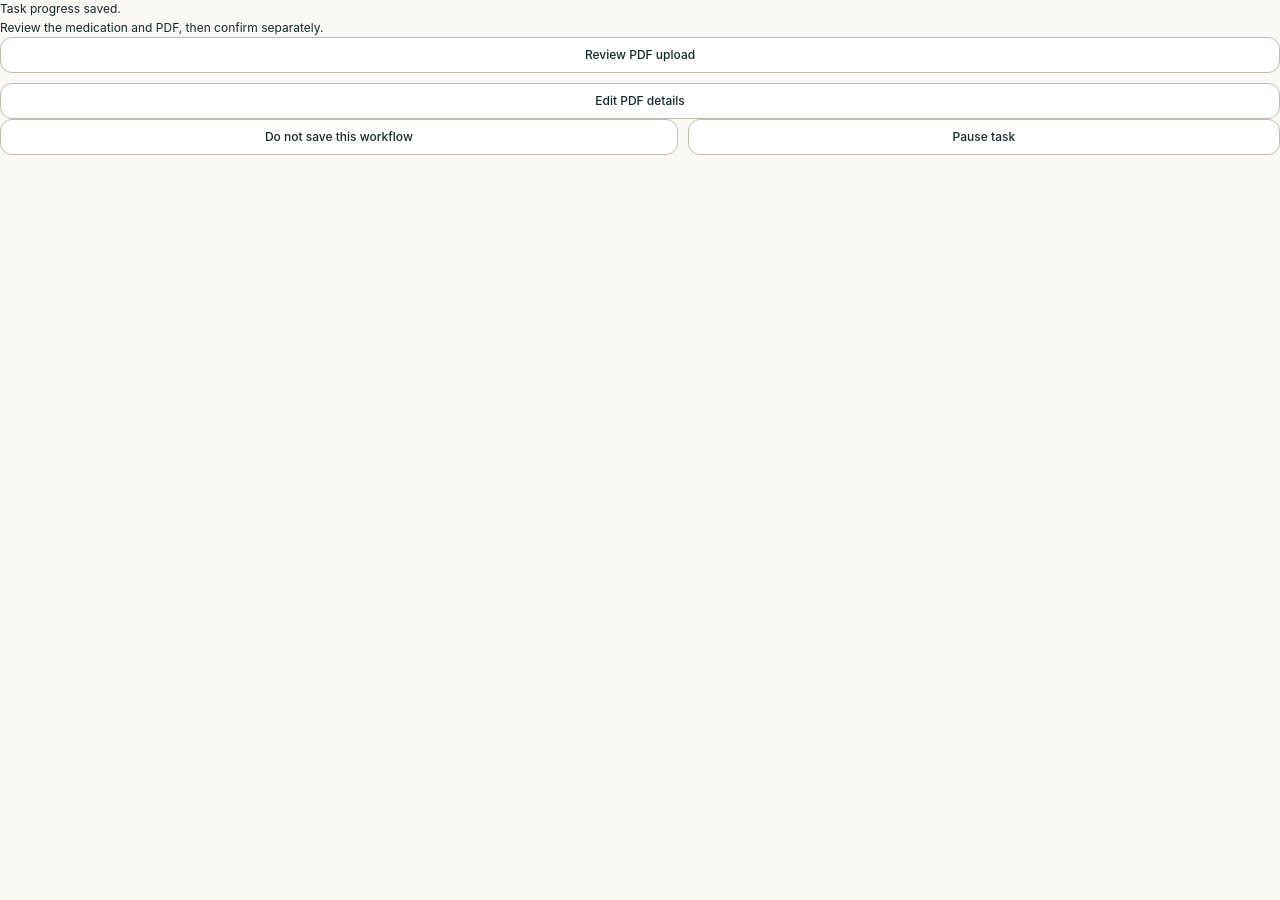
it: can reopen independent review after an unchanged read proves registration is still pending
Click the button "Review PDF upload" at (640, 55), box x1=0 y1=37 x2=1279 y2=73
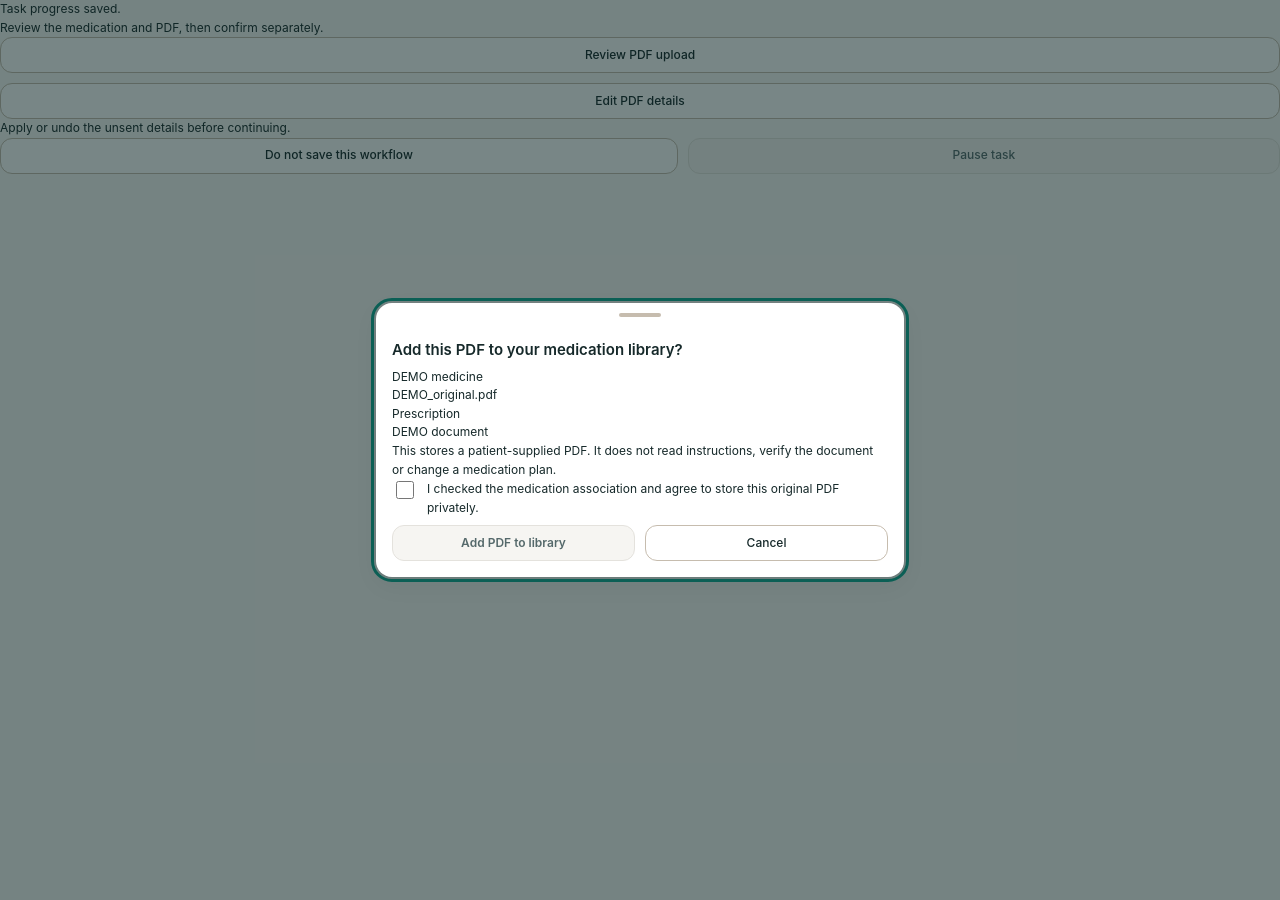
Click the checkbox at (405, 490), box x1=396 y1=481 x2=414 y2=499
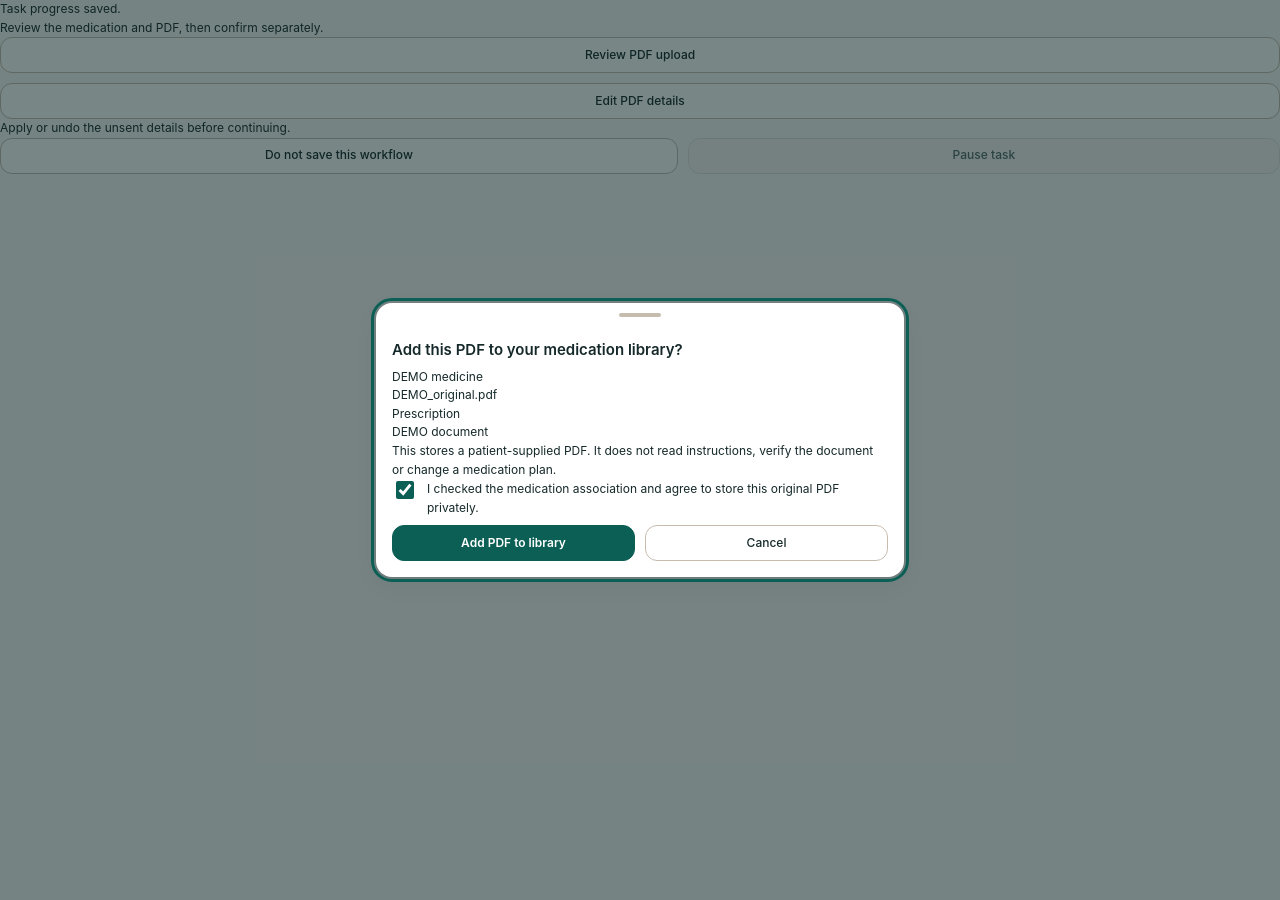
Click the button "Add PDF to library" at (514, 544), box x1=392 y1=526 x2=635 y2=562
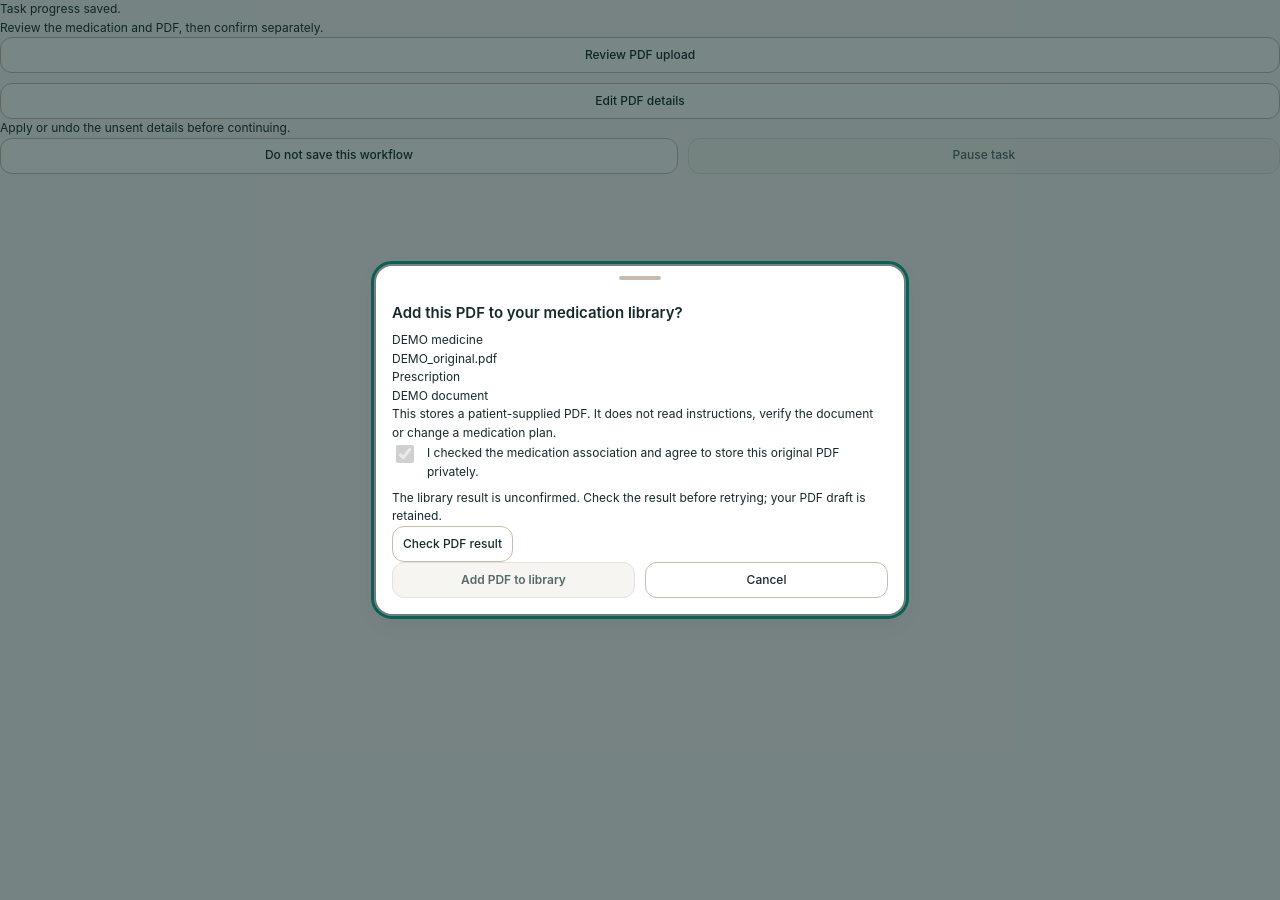
Now the message is shown, box x1=392 y1=489 x2=888 y2=526
Click the button "Check PDF result" at (452, 544), box x1=392 y1=526 x2=513 y2=562
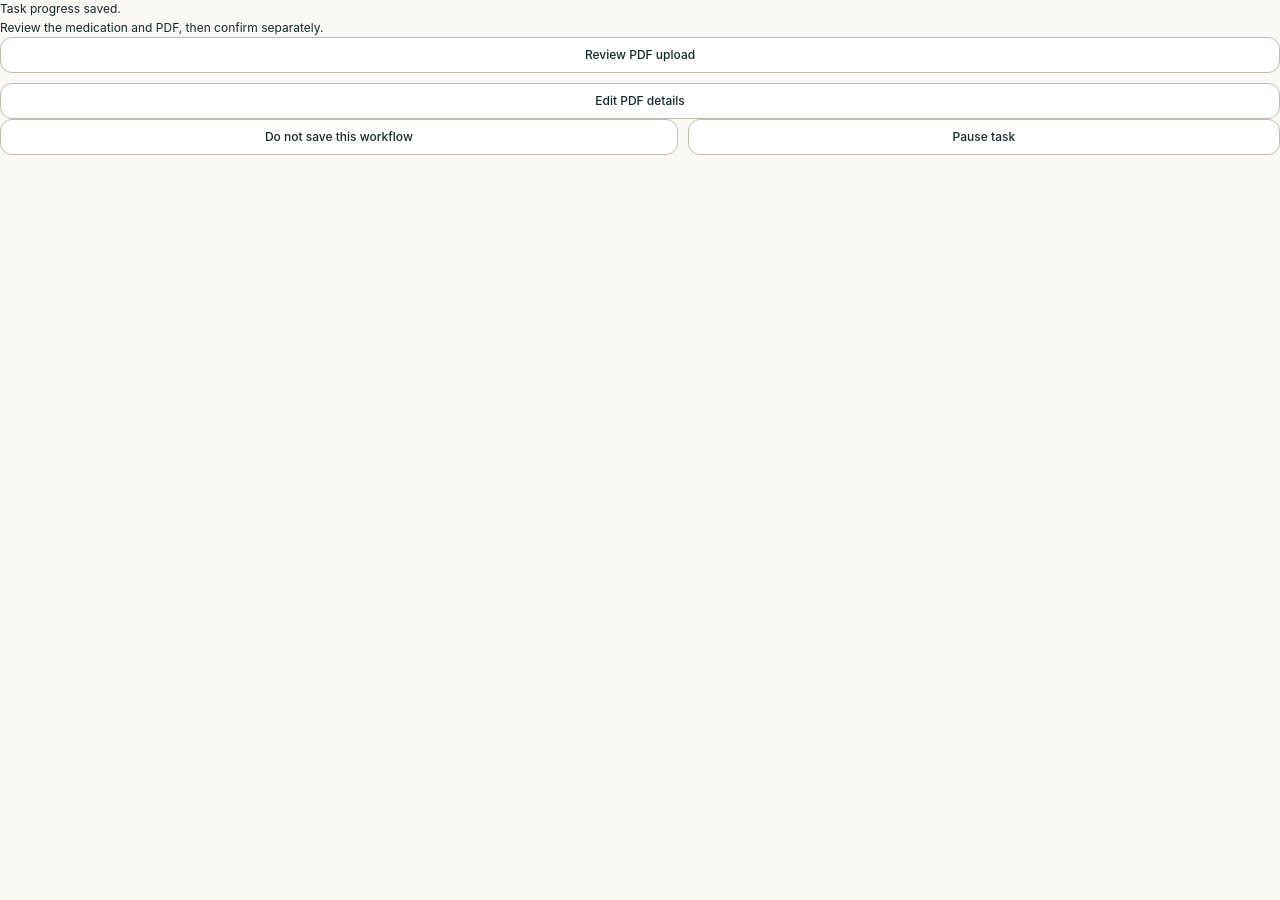
Now the dialog is gone
Click the button "Review PDF upload" at (640, 55), box x1=0 y1=37 x2=1279 y2=73
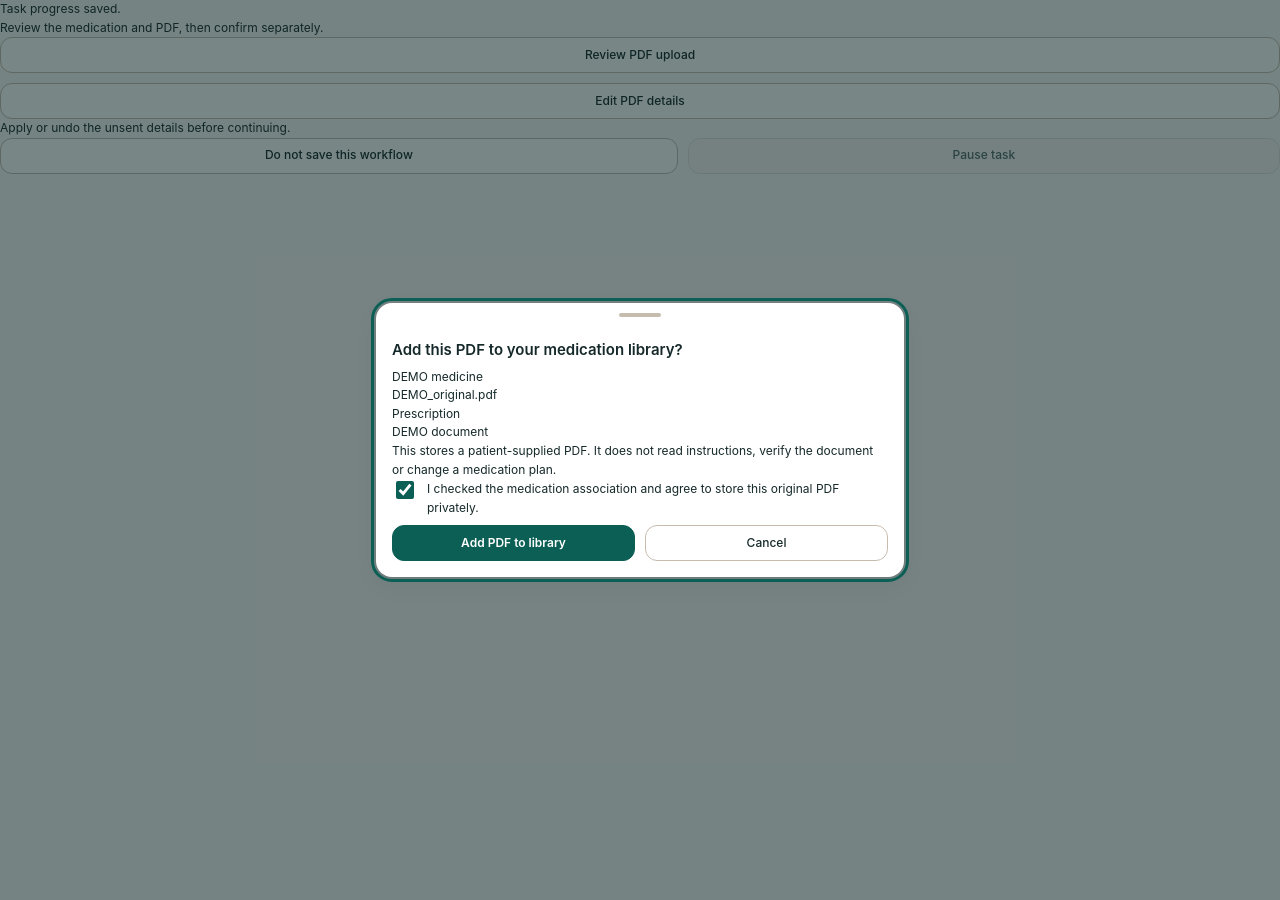
Now the button "Add PDF to library" is enabled, box x1=392 y1=526 x2=635 y2=562
